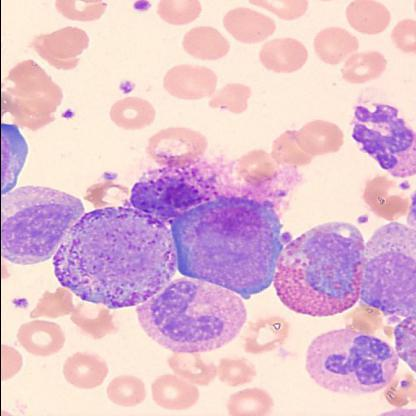Promyelocyte: (168, 196, 284, 300)
